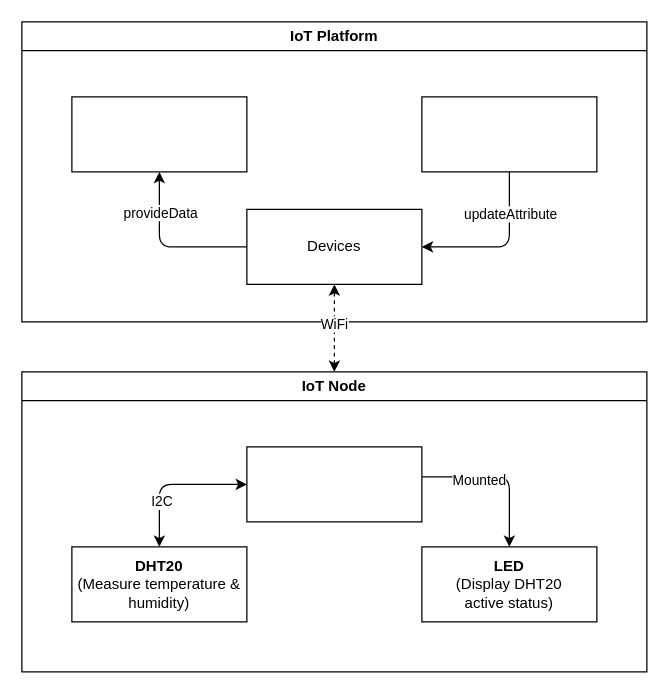
Some shapes in this 669 by 694 pixel diagram are drawn without their labels. Each missing label, with the centre of its shape:
"Dashboard" goes at point (159, 134).
"ESP32 (Handle connection & Data collection)" goes at point (334, 484).
"Scheduler" goes at point (509, 134).
